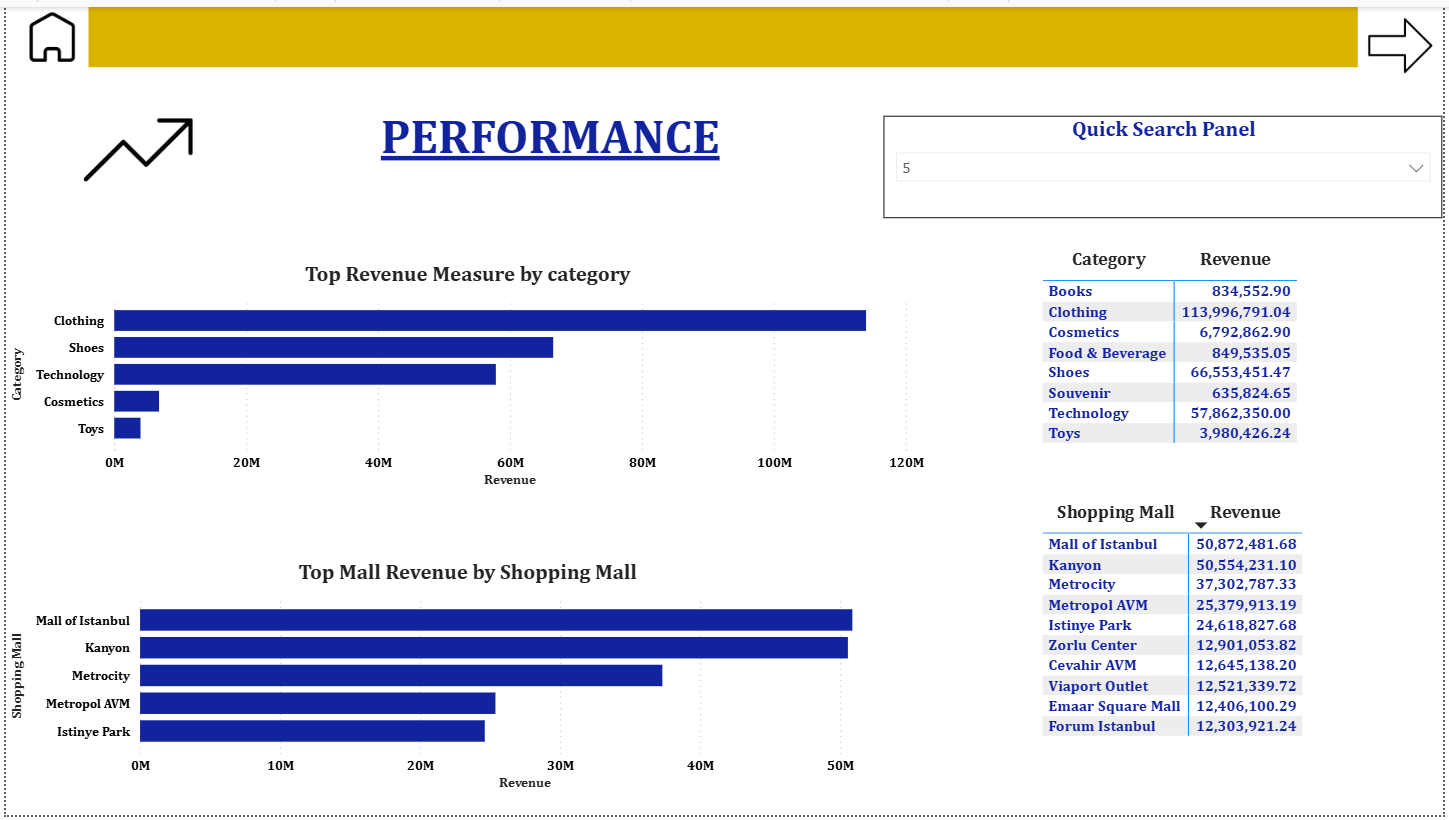

What the dashboard file says about the page in this screenshot:
{"tool":"powerbi","page":{"name":"Performance","canvas":[1280,720],"ordinal":2},"visuals":[{"type":"textbox","box":[0,85.1,1279.7,115.4],"z":0},{"type":"slicer","title":"Quick Search Panel","fields":{"Values":["TopNSelection.TopNSelection"]},"box":[782,96.7,497.8,90.9],"z":1000},{"type":"clusteredBarChart","title":"Top Revenue Measure by category","fields":{"Category":["Sheet1.category"],"Y":["Sheet1.TopN Revenue Measure"]},"box":[0,226.5,822.4,206.3],"z":2000},{"type":"clusteredBarChart","title":"Top Mall Revenue by Shopping Mall","fields":{"Y":["Sheet1.TopN Mall Transactions"],"Category":["Sheet1.shopping_mall"]},"box":[0,492,822.4,210.6],"z":3000},{"type":"pivotTable","fields":{"Rows":["Sheet1.category"],"Values":["Sheet1.Revenue"]},"box":[918.1,208.5,302,200.1],"z":4000},{"type":"pivotTable","fields":{"Rows":["Sheet1.shopping_mall"],"Values":["Sheet1.Revenue"]},"box":[918.1,432.7,293.6,269.7],"z":5000},{"type":"image","box":[0,0,82.7,53.9],"z":6000},{"type":"textbox","box":[73.1,0,1130.2,53.9],"z":7000},{"type":"image","box":[64.7,76.7,106.7,100.7],"z":8000},{"type":"image","box":[1203.3,0,76.7,73.1],"z":9000}]}

Visuals, with their boxes in screenshot pixels (x1, y1, x2, y2), scaled from the page's 1280x720 canvas onto the 1449x820 screenshot:
textbox: bbox(0, 97, 1448, 228)
"Quick Search Panel" slicer: bbox(885, 110, 1448, 214)
"Top Revenue Measure by category" clusteredBarChart: bbox(0, 258, 931, 493)
"Top Mall Revenue by Shopping Mall" clusteredBarChart: bbox(0, 560, 931, 800)
pivotTable - Sheet1.category x Sheet1.Revenue: bbox(1039, 237, 1381, 465)
pivotTable - Sheet1.shopping_mall x Sheet1.Revenue: bbox(1039, 493, 1372, 800)
image: bbox(0, 0, 94, 61)
textbox: bbox(83, 0, 1362, 61)
image: bbox(73, 87, 194, 202)
image: bbox(1362, 0, 1448, 83)
